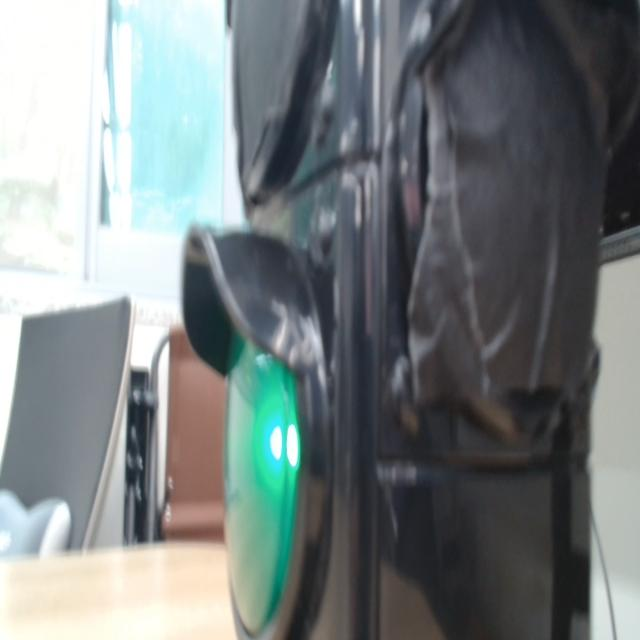green_light: (225, 336, 300, 634)
